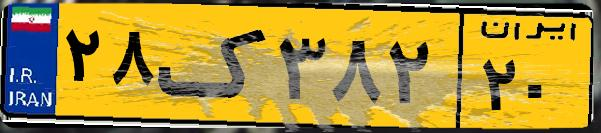0: (525, 38, 570, 115)
2: (385, 28, 445, 110), (57, 26, 110, 100), (475, 38, 525, 113)
3: (270, 28, 330, 110)
8: (330, 28, 385, 110), (110, 28, 158, 98)
ک: (158, 12, 270, 120)
